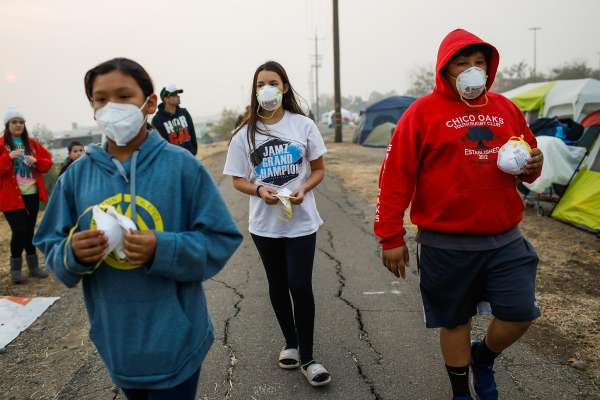bare: (9, 124, 26, 136)
n95: (88, 101, 148, 149), (494, 135, 530, 177), (450, 66, 490, 99), (248, 85, 288, 111)
